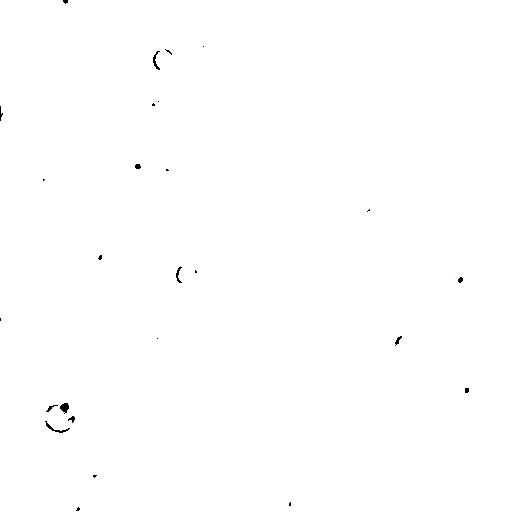micro-algae: (280, 158, 399, 271), (136, 258, 215, 341), (1, 291, 71, 362), (0, 89, 67, 161), (353, 438, 413, 495), (407, 371, 462, 423), (367, 352, 417, 399), (376, 329, 424, 373), (147, 147, 185, 185), (231, 447, 271, 483), (230, 29, 264, 70), (285, 465, 320, 499), (433, 315, 467, 349), (437, 257, 472, 289), (431, 0, 469, 29), (447, 373, 481, 404), (24, 32, 57, 62), (43, 403, 76, 433), (111, 225, 142, 256), (120, 150, 152, 179), (196, 29, 227, 58), (203, 391, 235, 419), (79, 452, 106, 485), (49, 393, 79, 421), (405, 293, 436, 320), (137, 111, 171, 135), (85, 238, 113, 267), (137, 88, 167, 115), (159, 470, 187, 498), (332, 453, 358, 483), (277, 71, 303, 99), (150, 45, 175, 74), (326, 426, 353, 451), (281, 121, 308, 144), (166, 66, 193, 89), (63, 7, 91, 29), (364, 198, 390, 221), (393, 331, 415, 358), (253, 106, 277, 130), (87, 102, 110, 127), (7, 24, 30, 48), (131, 415, 155, 438), (175, 263, 199, 285), (262, 139, 282, 165), (377, 59, 397, 82), (192, 494, 219, 511), (141, 326, 161, 347), (159, 451, 178, 473), (49, 0, 80, 13), (131, 300, 149, 319), (429, 434, 442, 459), (59, 497, 81, 511), (287, 496, 306, 511), (31, 168, 48, 183)
